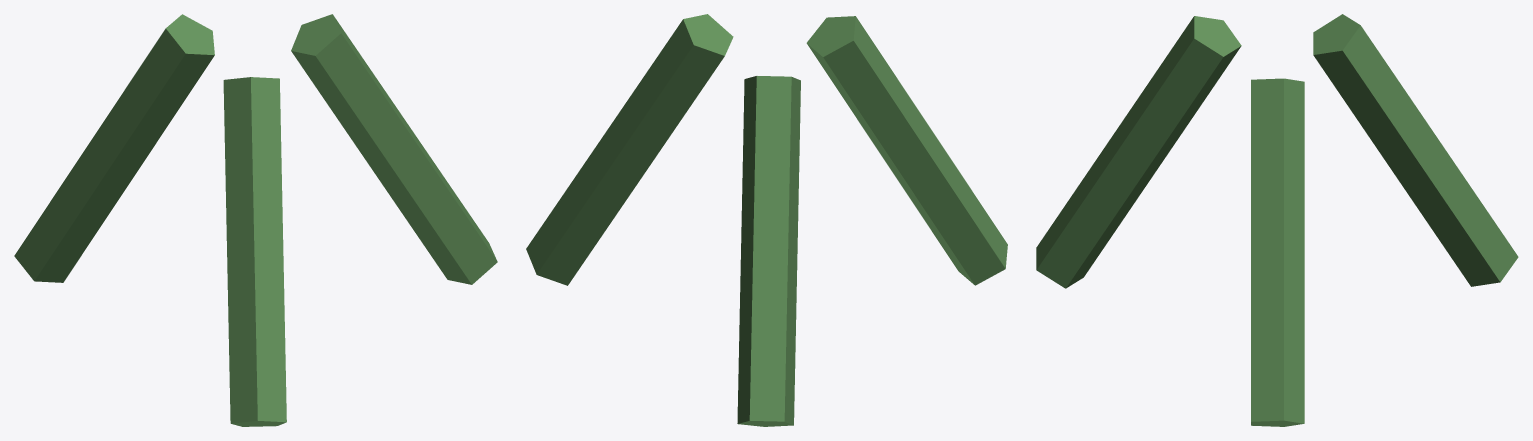
The model's file is norway-fern_lod1.glb.
3 renders of one model, left to right at view 1: azimuth 30°, elevation 25°; view 2: azimuth 150°, elevation 25°; view 3: azimuth 270°, elevation 25°, orthographic.
Parts seen in each view (by area): view 1: RF_Fern2, RF_Fern1, RF_Fern0; view 2: RF_Fern1, RF_Fern0, RF_Fern2; view 3: RF_Fern0, RF_Fern1, RF_Fern2.
Part boxes in pixels (left/top/right/bottom): RF_Fern2: left=223, top=77, right=286, bottom=426; RF_Fern1: left=14, top=14, right=214, bottom=282; RF_Fern0: left=291, top=14, right=497, bottom=284; RF_Fern1: left=737, top=76, right=800, bottom=426; RF_Fern0: left=526, top=14, right=733, bottom=285; RF_Fern2: left=806, top=16, right=1007, bottom=285; RF_Fern0: left=1251, top=78, right=1304, bottom=426; RF_Fern1: left=1313, top=14, right=1518, bottom=286; RF_Fern2: left=1036, top=16, right=1241, bottom=288.
Bounding box in the file's own units: 1.72 × 1.32 × 1.96.
